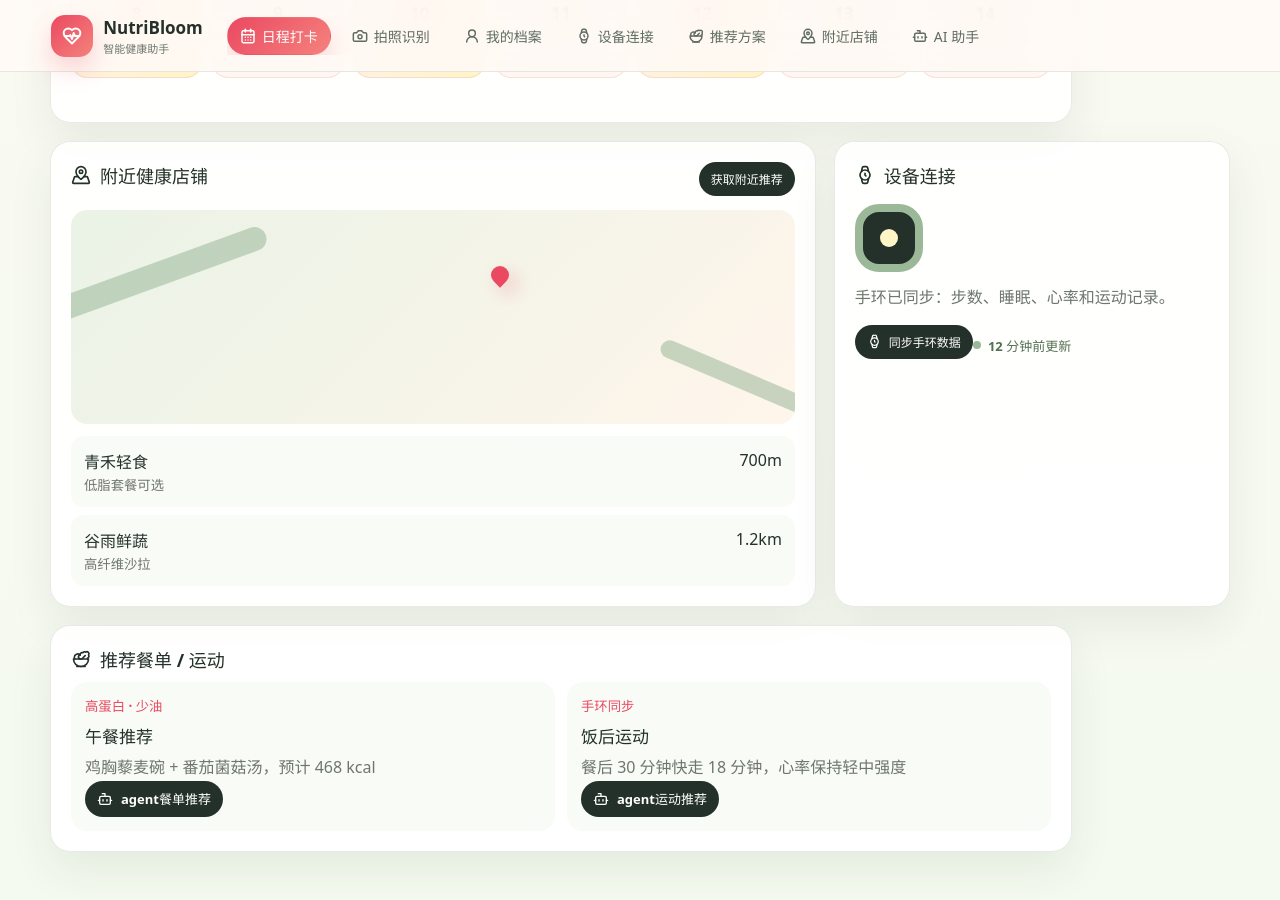
Health web frontend › prefills the agent drawer from food and exercise recommendation buttons
(page scrolled)
What coordinates should you click on to do the following:
click the button "agent餐单推荐"
I would click on:
 (154, 799)
Its box is [85,781,223,817].
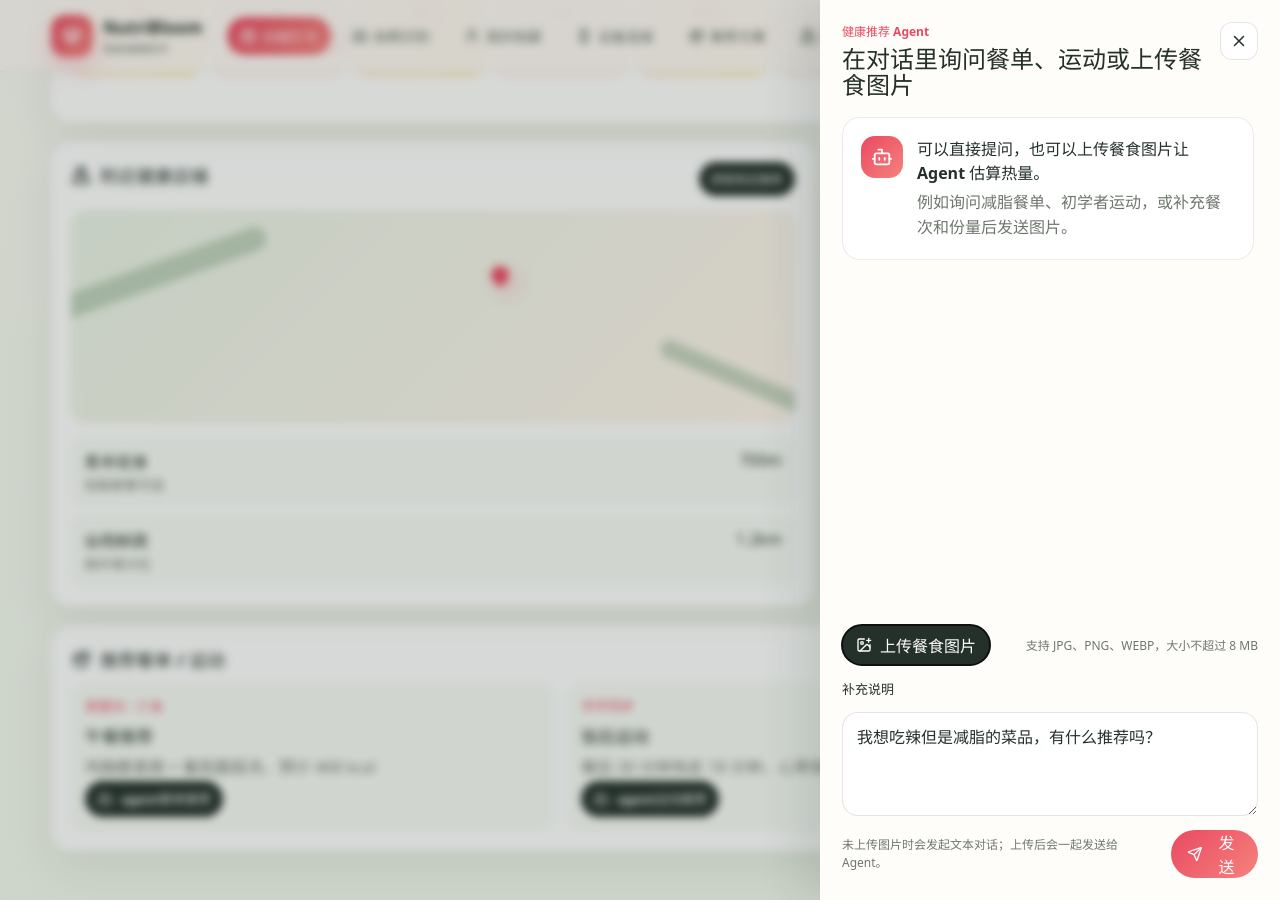
Check: the dialog named "餐食识别 Agent" is shown, box [820,0,1279,899]
Check: the text box labelled "补充说明" holds "我想吃辣但是减脂的菜品，有什么推荐吗？", box [842,712,1258,816]
What coordinates should you click on to do the following:
click the button named "关闭 Agent 对话"
I would click on:
 (1239, 41)
Its box is [1220,22,1258,60].
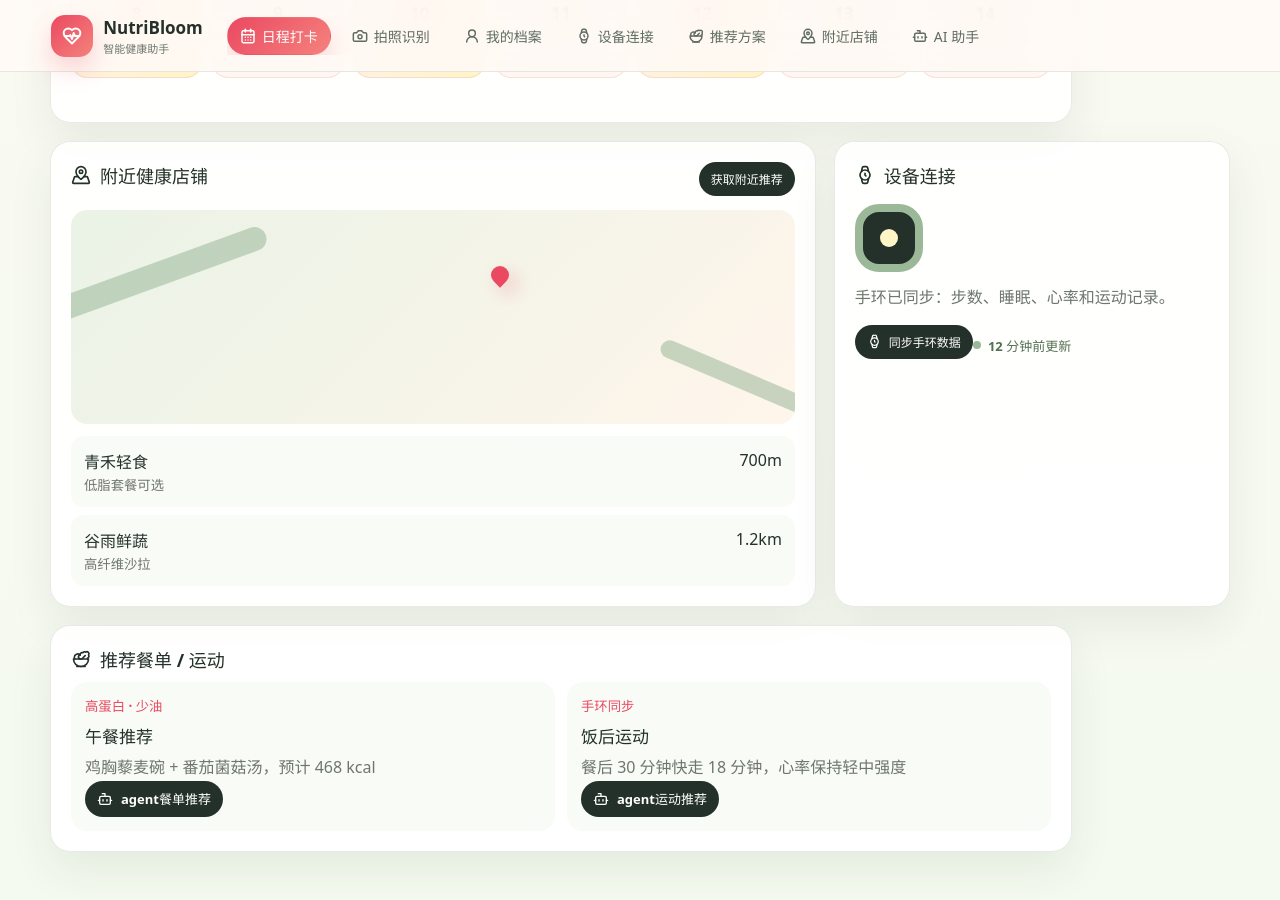
What coordinates should you click on to do the following:
click the button "agent运动推荐"
I would click on:
 (650, 799)
Its box is [581,781,719,817].
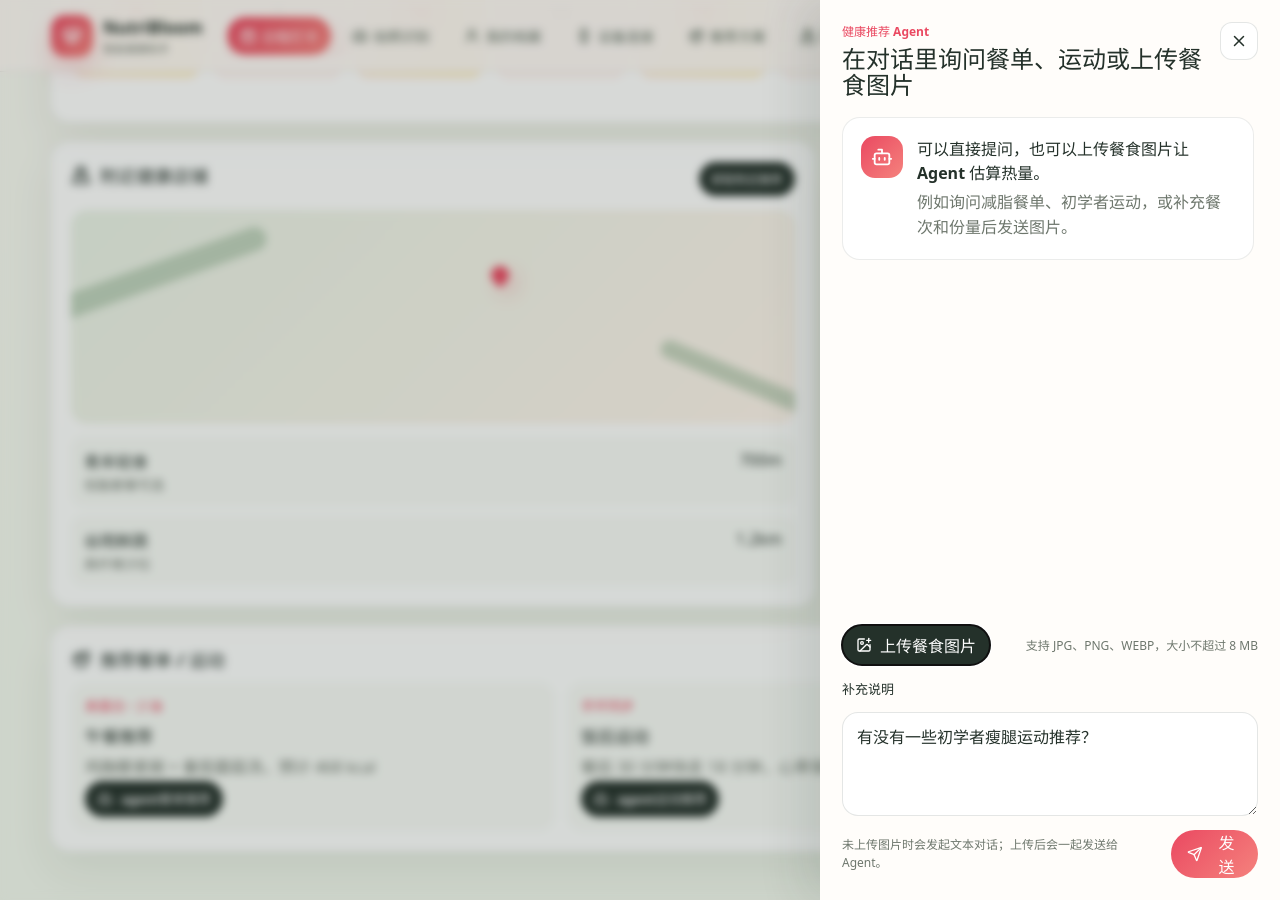
Check: the dialog named "餐食识别 Agent" is shown, box [820,0,1279,899]
Check: the text box labelled "补充说明" holds "有没有一些初学者瘦腿运动推荐？", box [842,712,1258,816]
